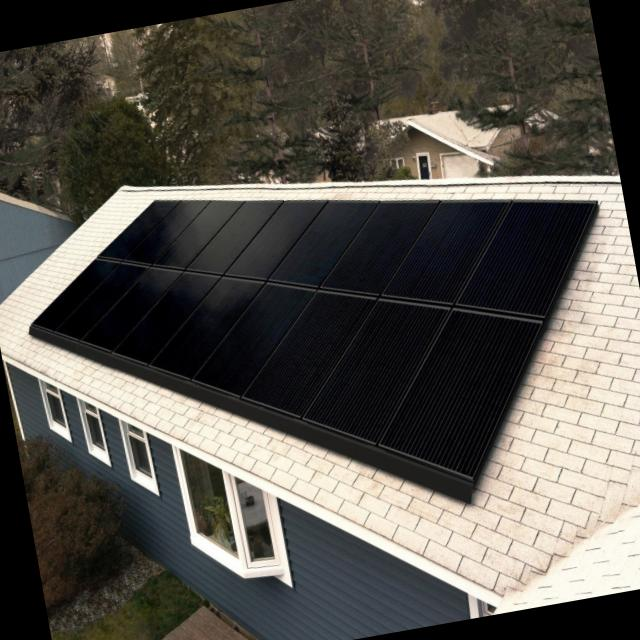no faulty: (40, 199, 592, 474)
